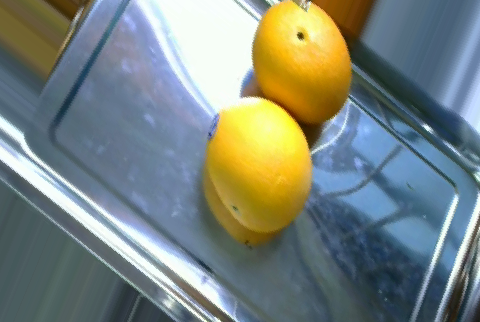Orange: (204, 95, 312, 233), (249, 1, 351, 123)
